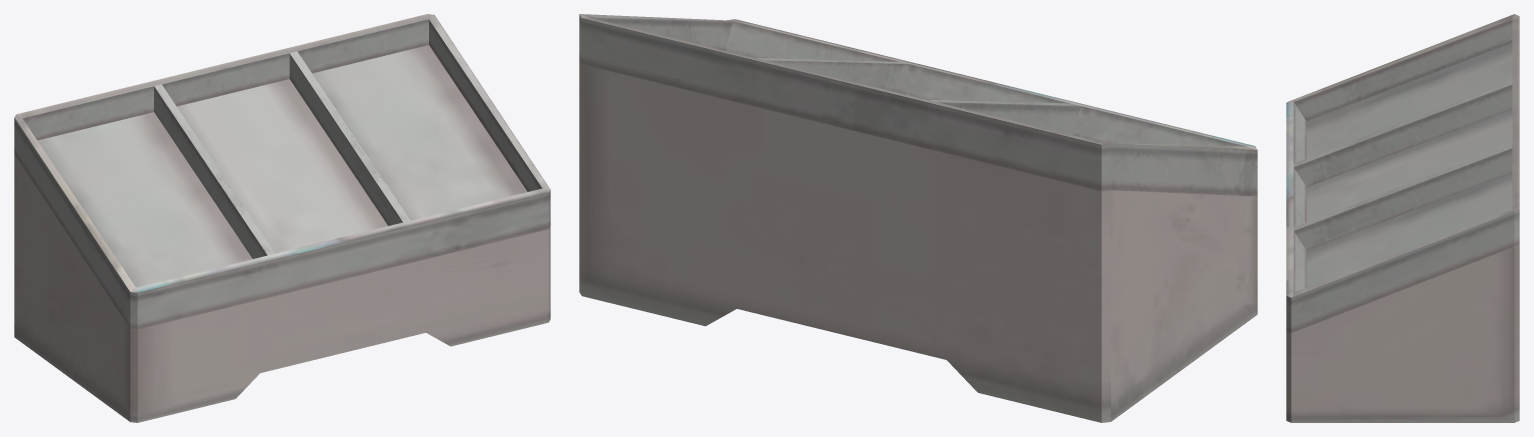
File: ss-freezer-island.lod0.glb
3 renders of one model, left to right at view 1: azimuth 30°, elevation 25°; view 2: azimuth 150°, elevation 25°; view 3: azimuth 270°, elevation 25°, orthographic. The views are drawn at different scales.
Visible parts, largest first — view 1: general_store_furniture_fresh_food_display.001_general_store; view 2: general_store_furniture_fresh_food_display.001_general_store; view 3: general_store_furniture_fresh_food_display.001_general_store.
Boxes of the visible parts, <box> form: general_store_furniture_fresh_food_display.001_general_store: <box>14,14,550,422</box>; general_store_furniture_fresh_food_display.001_general_store: <box>579,14,1257,422</box>; general_store_furniture_fresh_food_display.001_general_store: <box>1286,14,1519,422</box>.
Size of the model in its own units: 2.15 by 1.08 by 1.08.
Materials: 1 (1 with a texture image).
